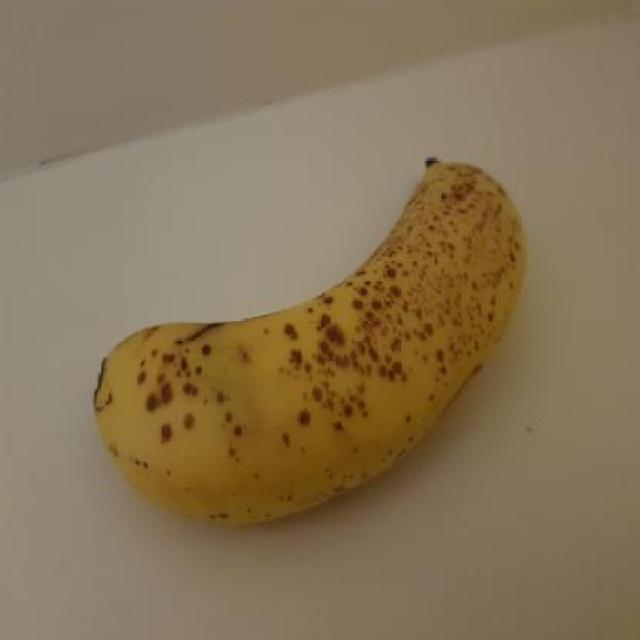banana: (90, 150, 522, 522)
